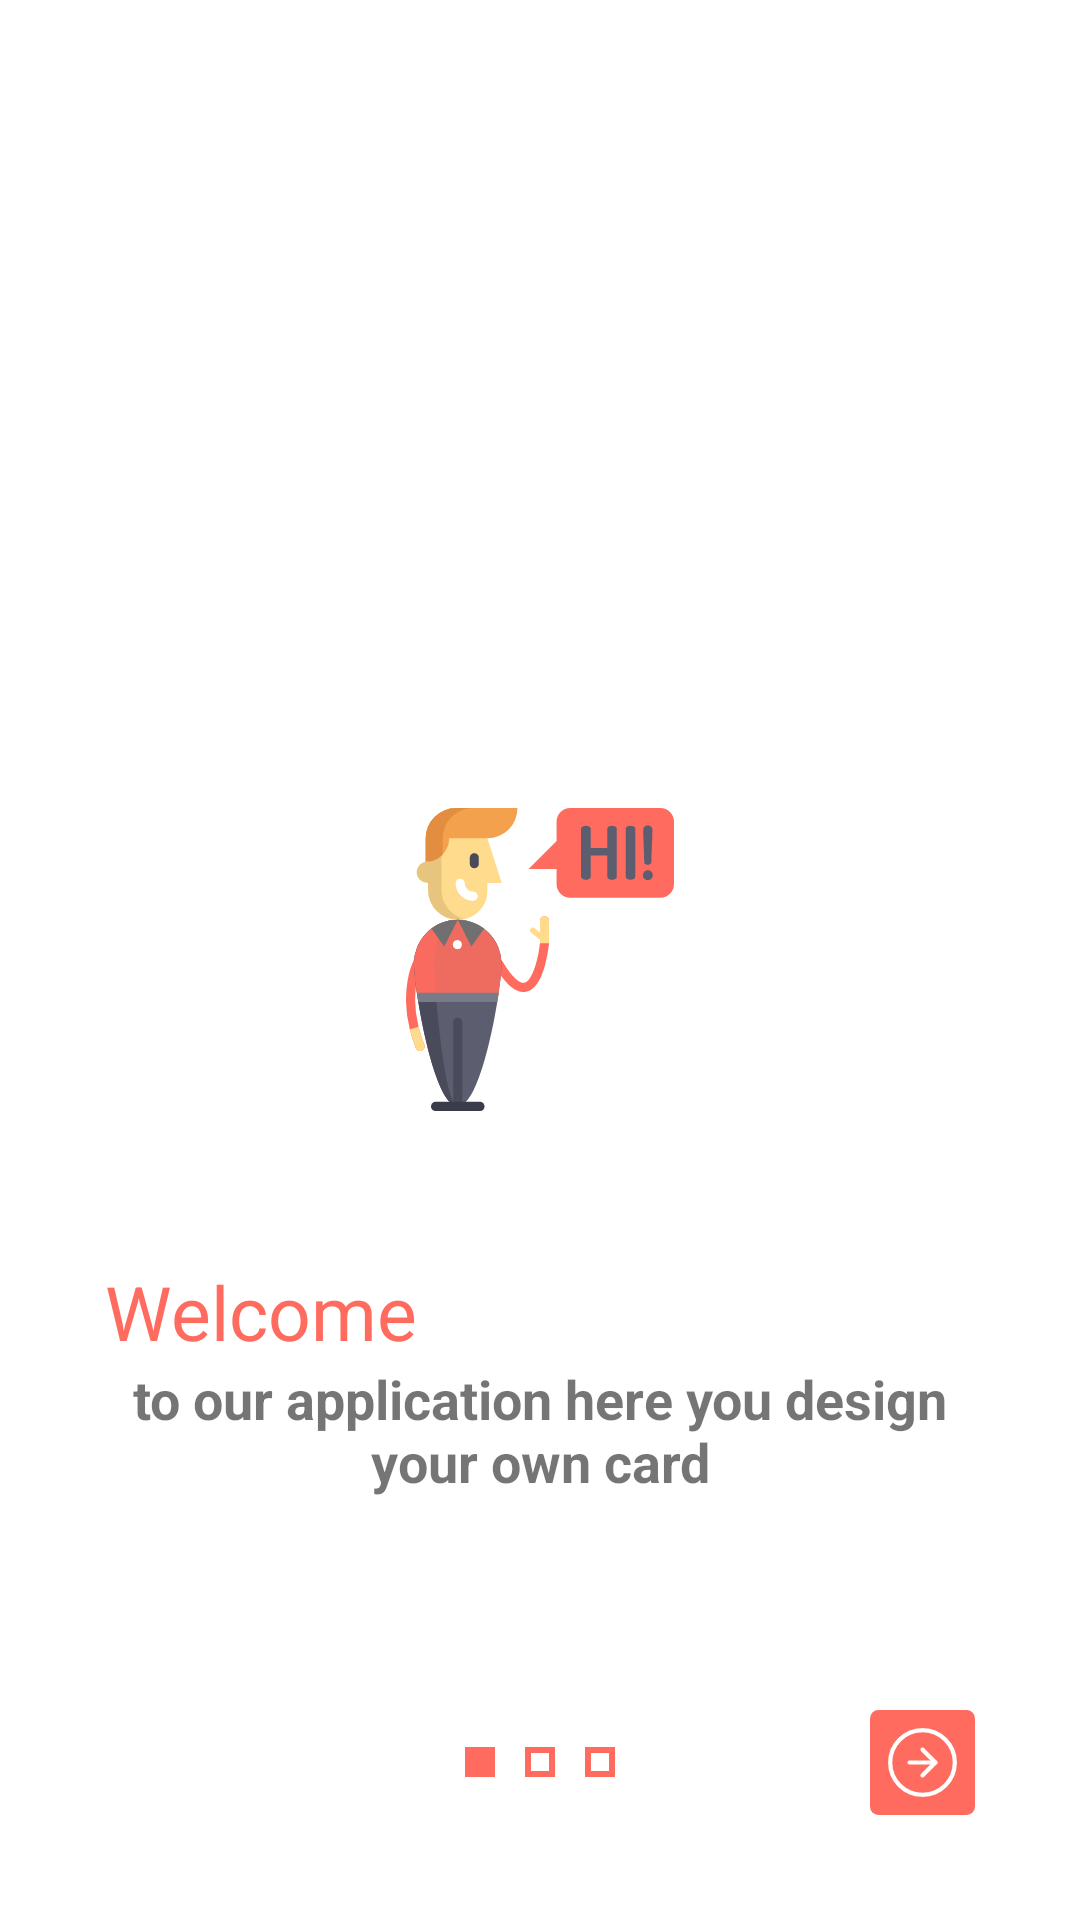

Icon bounding boxes for this 1080w x 1920h phone screenshot, format (x1, y1, x2, y2):
next: (870, 1710, 975, 1815)
